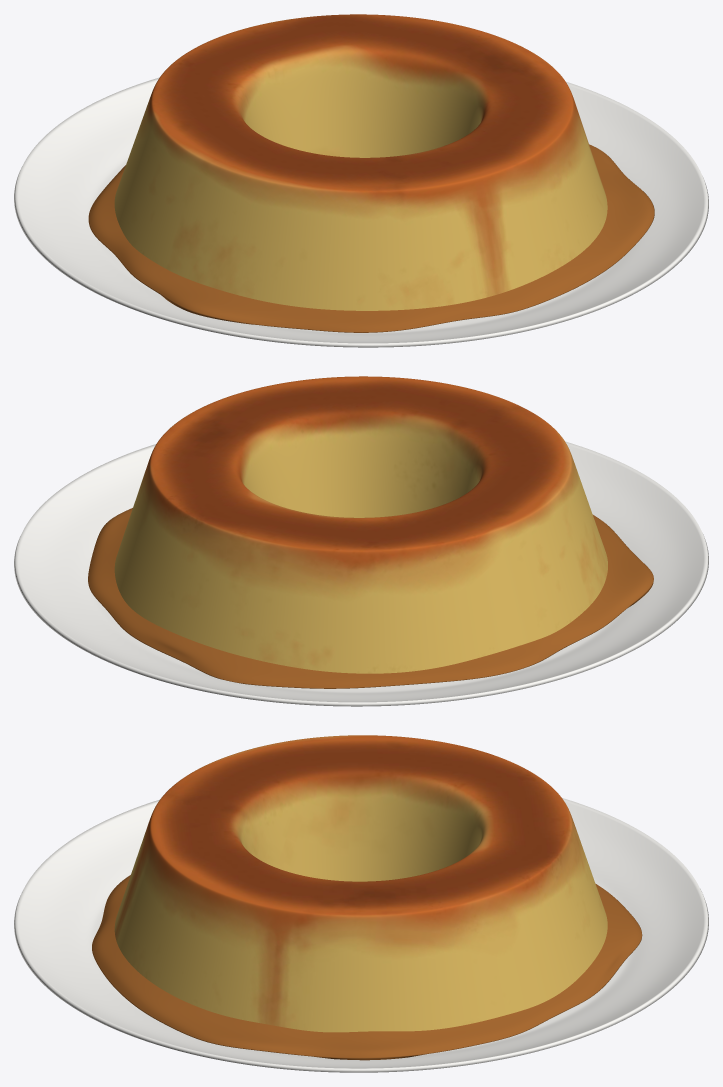
File: rozata.glb
3 renders of one model, top to bottom at view 1: azimuth 30°, elevation 25°; view 2: azimuth 150°, elevation 25°; view 3: azimuth 270°, elevation 25°, orthographic.
Visible parts, largest first — view 1: rozata; view 2: rozata; view 3: rozata.
Part boxes in pixels (x1,y1,x2,y2): rozata: [14, 14, 708, 347]; rozata: [14, 376, 708, 706]; rozata: [14, 735, 708, 1072].
Size of the model in its own units: 0.14 by 0.0277 by 0.14.
3 materials, 1 textured.
